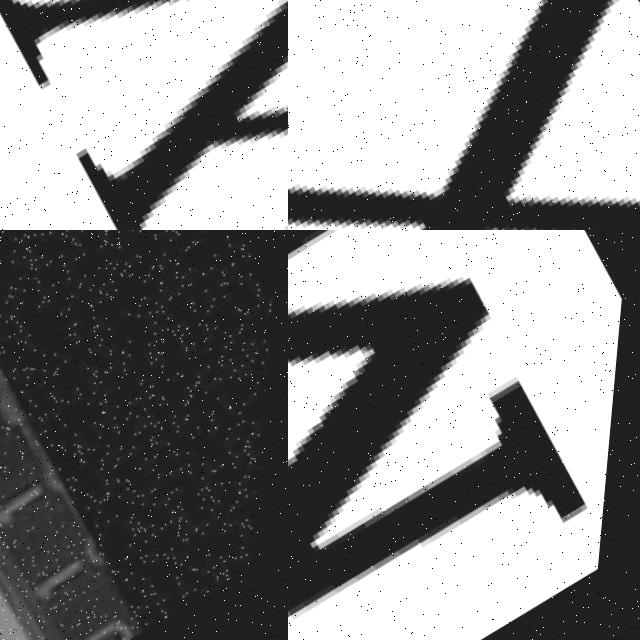0: (79, 614, 145, 640)
1: (27, 556, 101, 617), (0, 478, 61, 539)
M: (288, 230, 640, 640)
W: (0, 0, 288, 230)
X: (288, 0, 640, 230)
